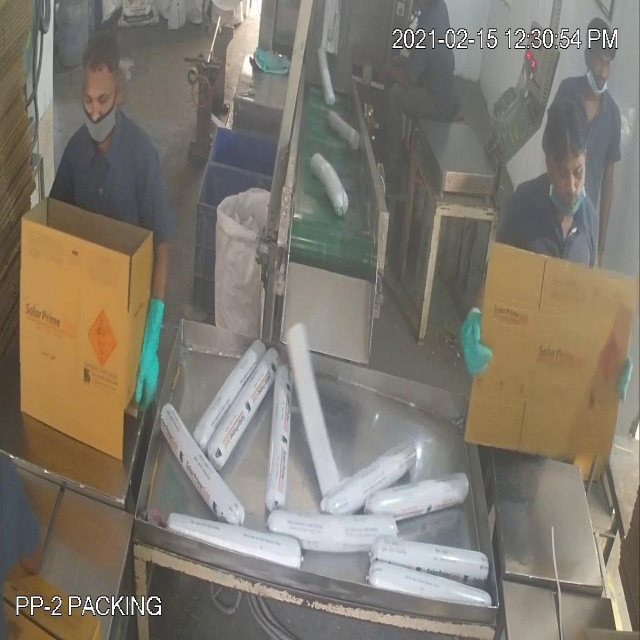Guantes: (122, 280, 176, 415), (454, 301, 496, 390)
Sin_guantes: (586, 140, 619, 277)
